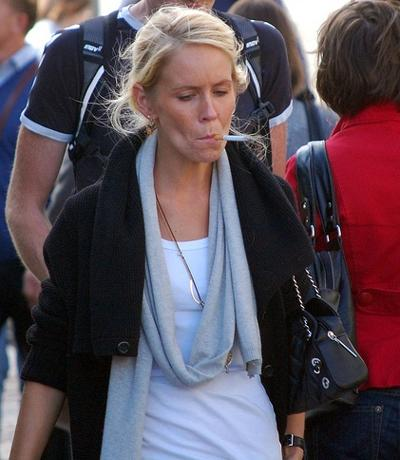person: (9, 7, 340, 460)
